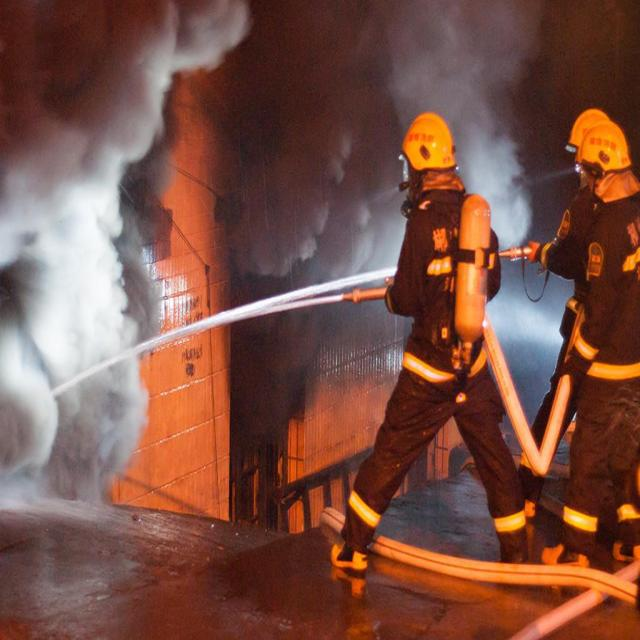other: (563, 97, 638, 179), (393, 106, 469, 172), (401, 342, 462, 389), (558, 495, 602, 538), (491, 499, 529, 544), (346, 484, 381, 532)
smoke: (2, 0, 172, 489), (232, 14, 380, 408)
